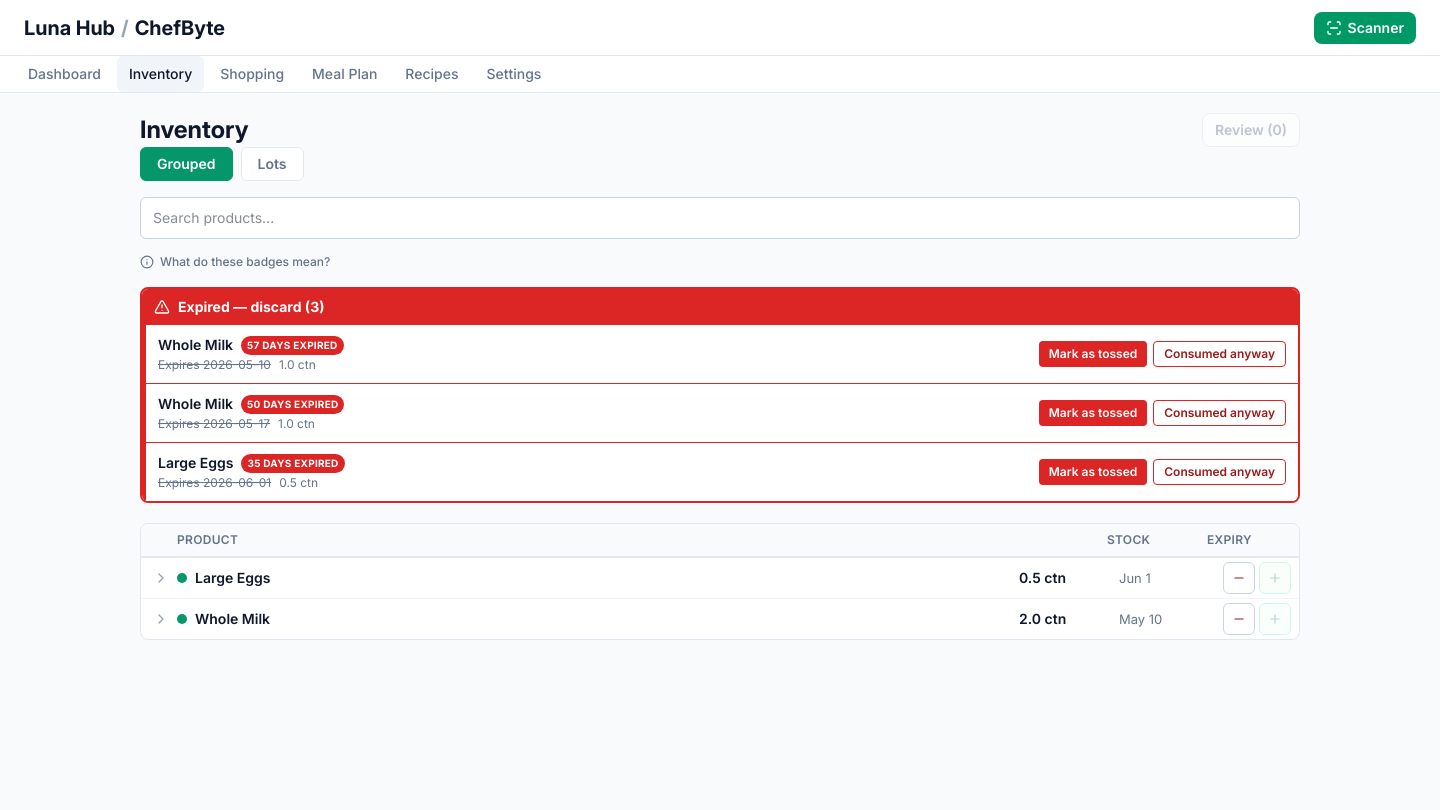
Scenario: InventoryPage — view-mode toggle › clicking Lots switches to lots view; grouped view is absent
Expected: the element with test id "inventory-view-toggle" is shown, [140,147,304,181]
Click the button "Lots": [272, 164] box [241,147,304,181]
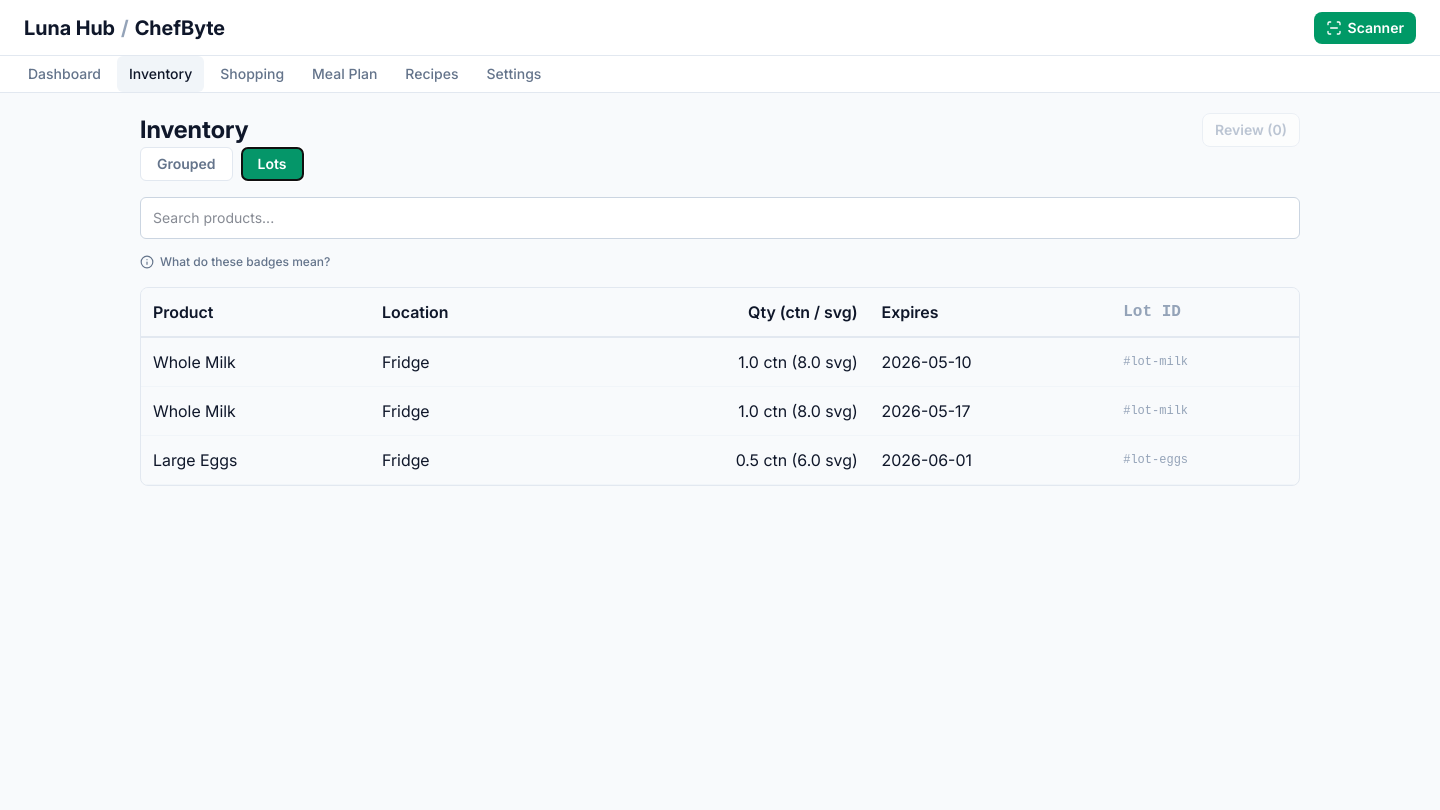
Expected: the element with test id "lots-view" is shown, [140,287,1300,486]
Expected: the element with test id "grouped-view" is gone
